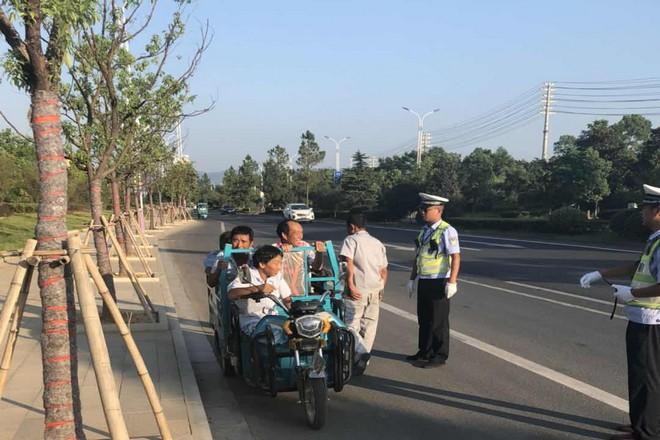driver: (236, 251, 317, 347)
overloading: (172, 204, 357, 436)
passenger: (184, 199, 259, 269), (265, 205, 345, 252)
